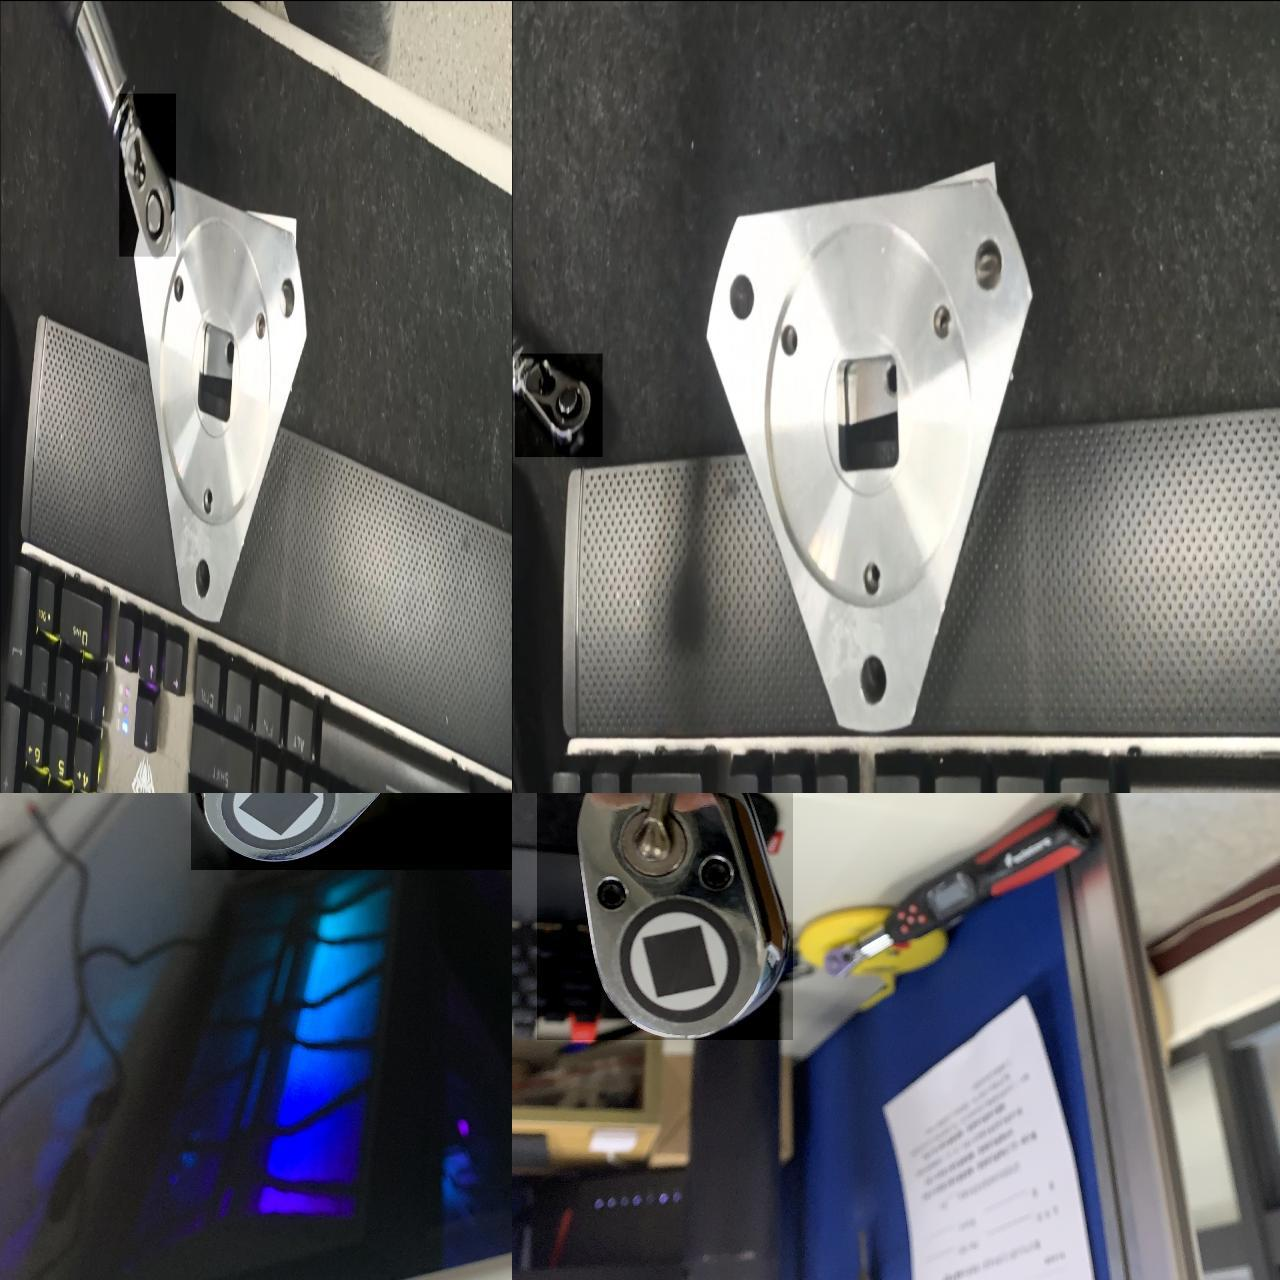Tool: (536, 794, 792, 1039), (190, 794, 512, 869), (118, 93, 176, 256), (515, 353, 602, 456)
